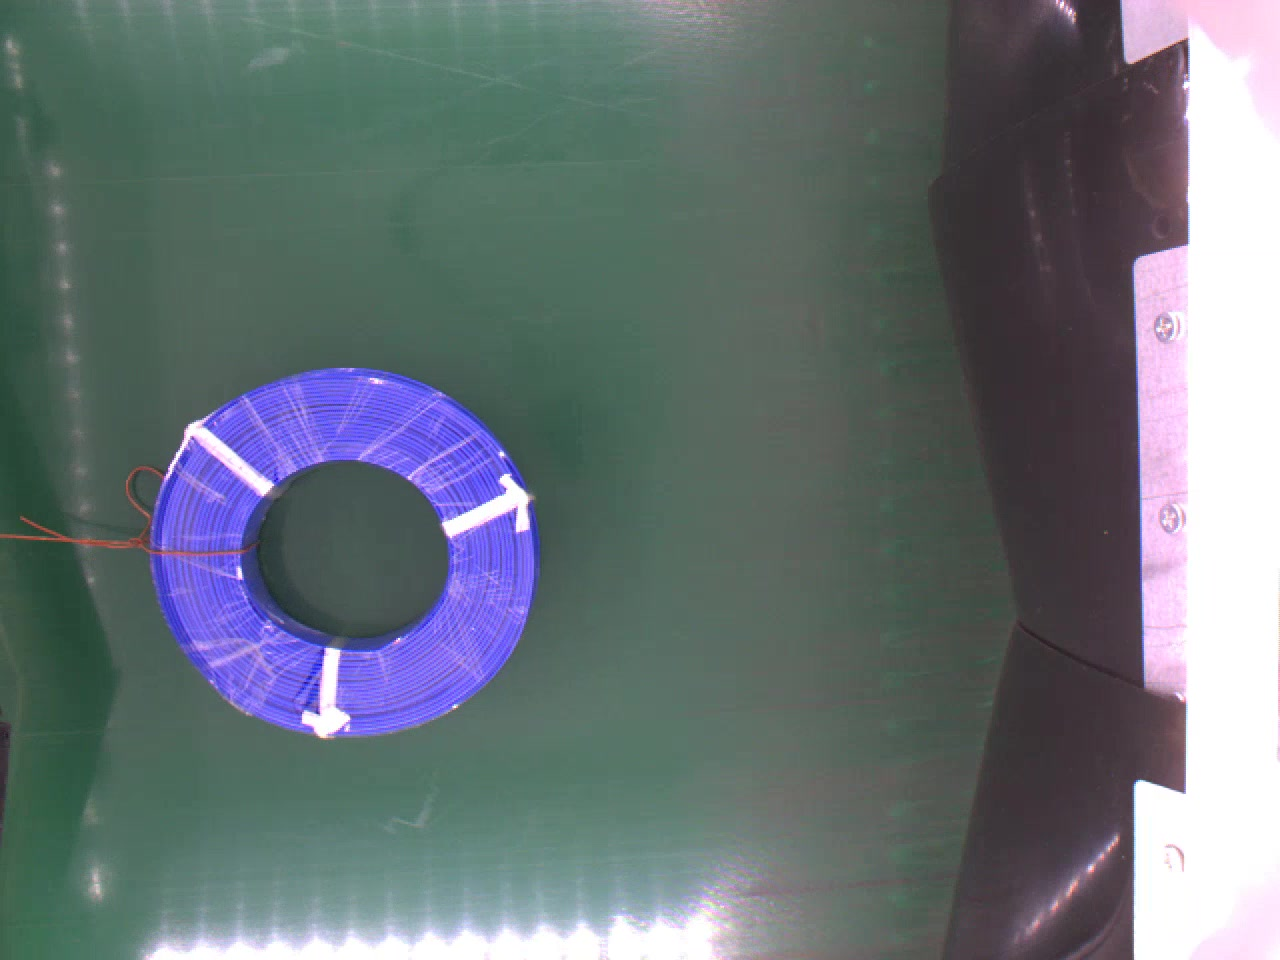blue: (153, 367, 546, 741)
